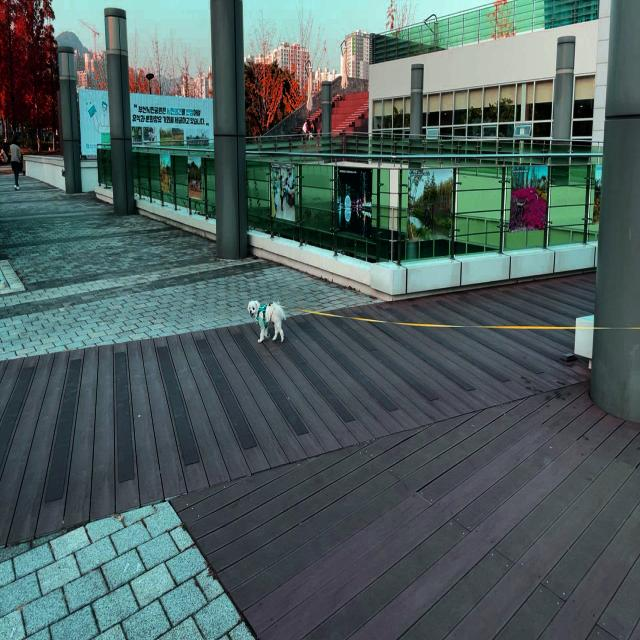Dog: (247, 299, 286, 344)
